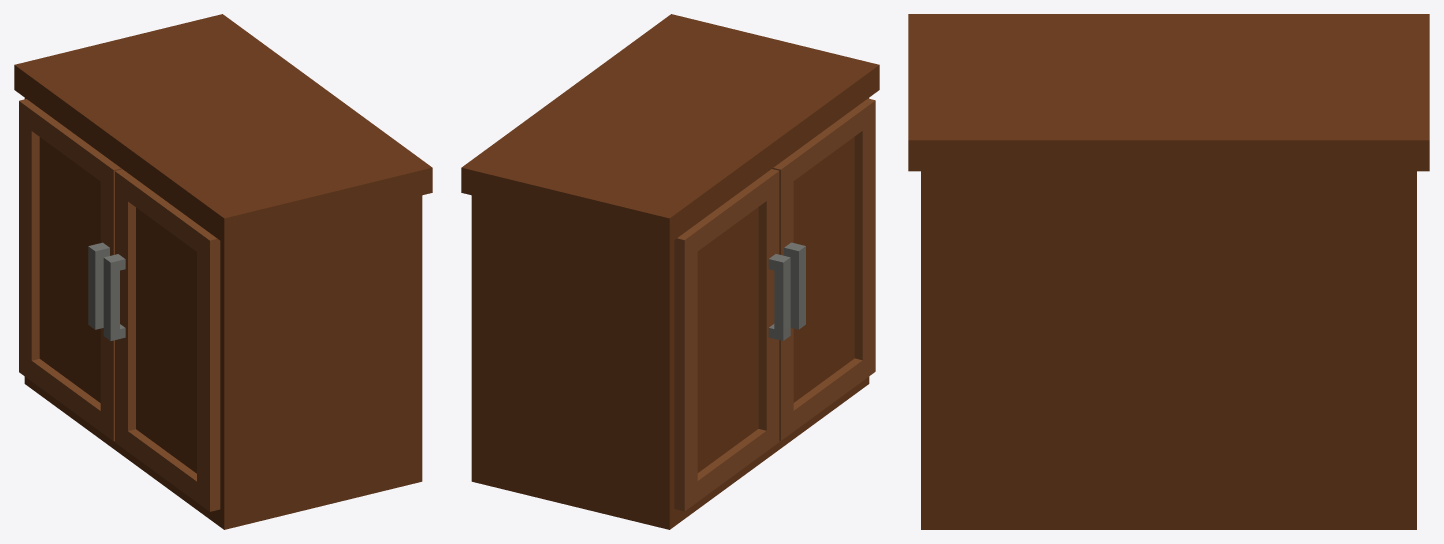
Rendered from BathCupboard.fbx.
3 renders of one model, left to right at view 1: azimuth 30°, elevation 25°; view 2: azimuth 150°, elevation 25°; view 3: azimuth 270°, elevation 25°, orthographic. The views are drawn at different scales.
Visible parts, largest first — view 1: Cube.8234; view 2: Cube.8234; view 3: Cube.8234.
Part boxes in pixels (box(x1,y1,x2,y2)): Cube.8234: box(14, 14, 432, 529); Cube.8234: box(461, 14, 879, 529); Cube.8234: box(908, 14, 1429, 529).
Bounding box in the file's own units: 104 × 138 × 166.
1 material, 1 textured.
